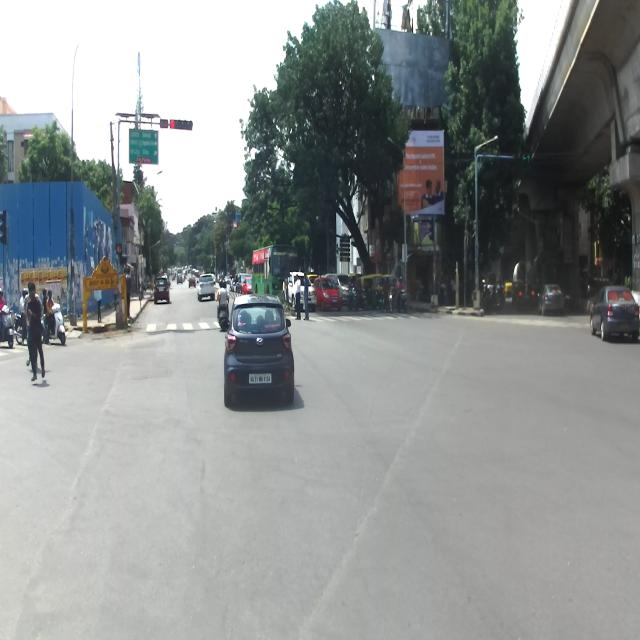car ahead at: (224, 297, 294, 412)
person ahead at: (20, 277, 51, 390)
traffic signal ahead at: (165, 107, 195, 135)
